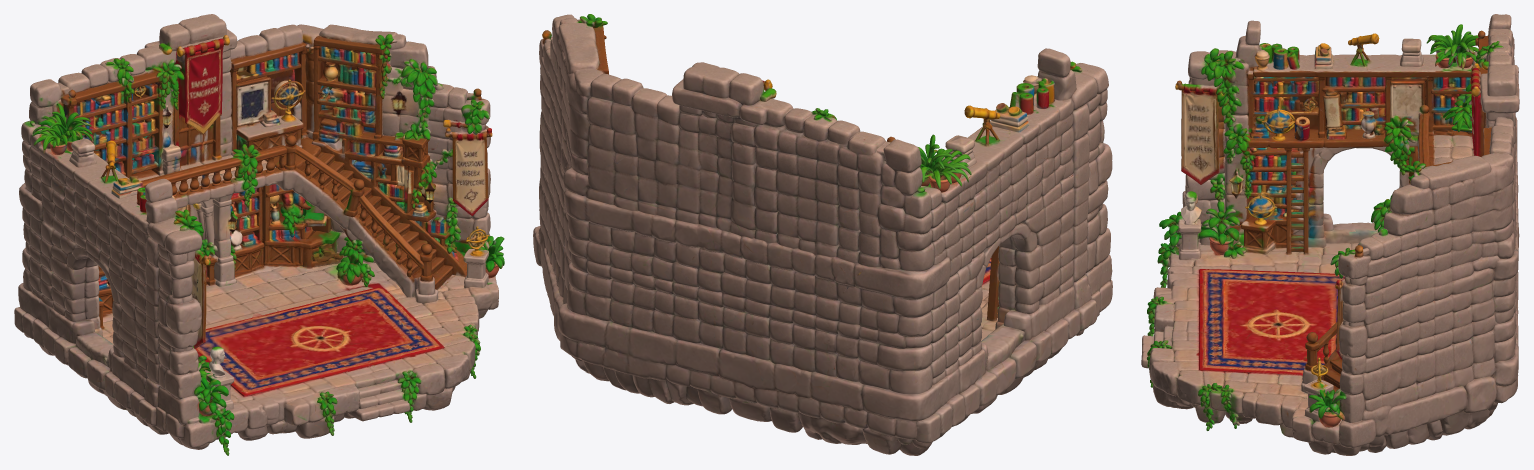
Rendered from kfb-meshy-utopia-library.browser-a.v1.glb.
The picture shows the model from 3 angles, left to right: view 1: azimuth 30°, elevation 25°; view 2: azimuth 150°, elevation 25°; view 3: azimuth 270°, elevation 25°; orthographic projection. The views are drawn at different scales.
Size of the model in its own units: 1.9 by 1.29 by 1.48.
1 material, 1 textured.
